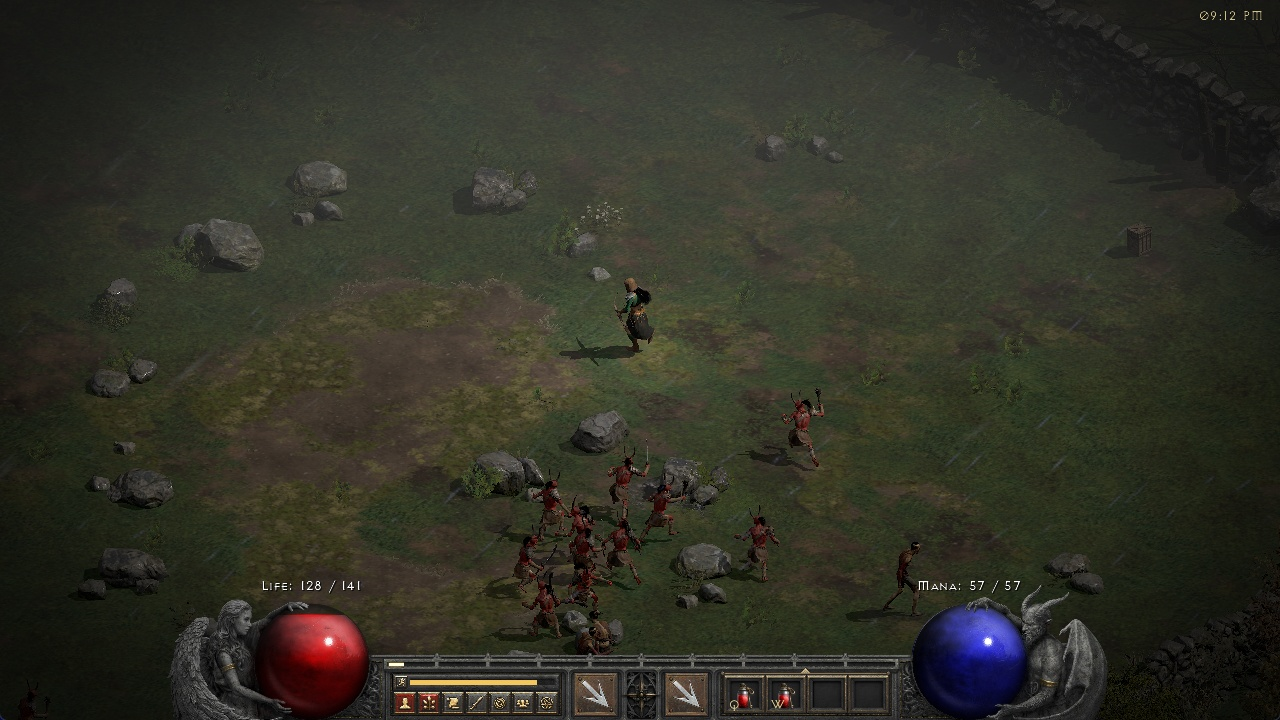fallen: (771, 394, 836, 470), (599, 444, 651, 505), (735, 506, 779, 578), (643, 478, 692, 538), (526, 584, 571, 636), (608, 519, 647, 577), (524, 474, 565, 525), (515, 531, 556, 582), (569, 568, 617, 609), (563, 526, 605, 569), (568, 501, 583, 527)
